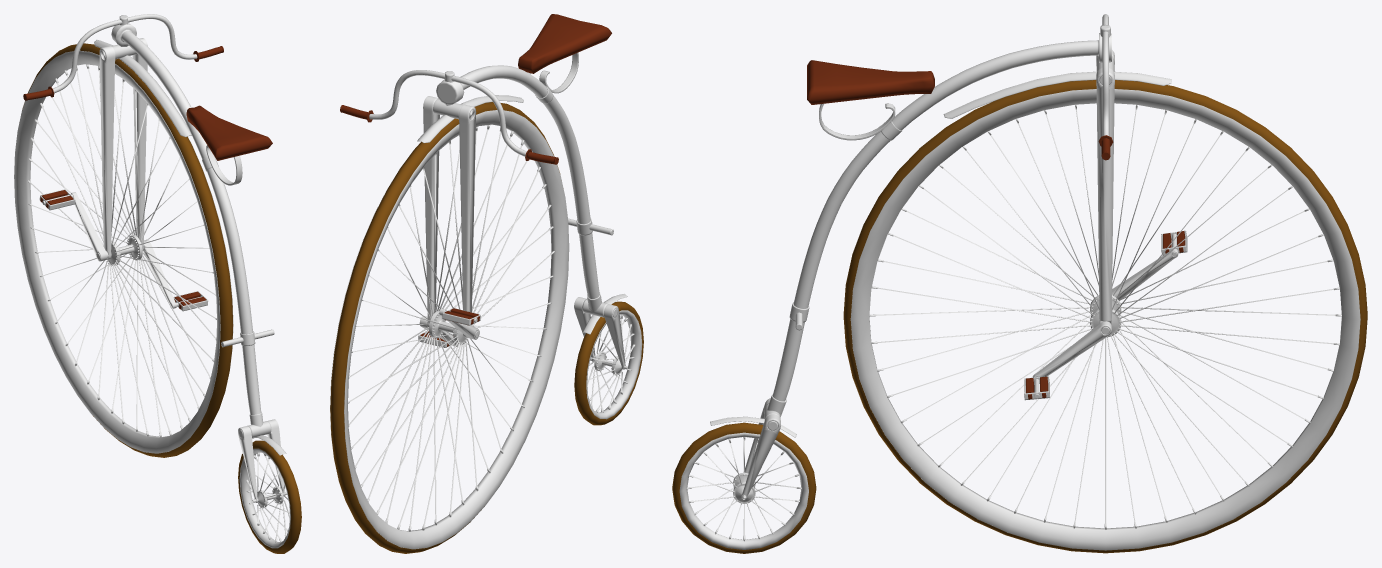
File: bike.glb
3 renders of one model, left to right at view 1: azimuth 30°, elevation 25°; view 2: azimuth 150°, elevation 25°; view 3: azimuth 270°, elevation 25°, orthographic. The views are drawn at different scales.
Visible parts, largest first — view 1: Rim-Big, Tire-Big, Wires-Right, Wires-Left, Body, FootShaft-R.008, Chair, Tire-Small, Wing-Big, Rime-Small, Steering, FootShaft-R.009 (+9 smaller); view 2: Rim-Big, Tire-Big, Wires-Right, Wires-Left, FootShaft-R.008, Body, Chair, Tire-Small, Rime-Small, Steering, FootShaft-R.009, Wing-Big (+8 smaller); view 3: Rim-Big, Tire-Big, Wires-Left, Body, Wires-Right, Chair, FootShaft-R.008, Tire-Small, Rime-Small, Wing-Big, FootShaft-R.009, FootShaft-R.005 (+2 smaller).
Boxes of the visible parts, left/top/right/bottom form: Rim-Big: left=14, top=50, right=233, bottom=453; Tire-Big: left=22, top=43, right=233, bottom=457; Wires-Right: left=27, top=66, right=216, bottom=436; Wires-Left: left=28, top=64, right=216, bottom=437; Body: left=111, top=23, right=261, bottom=414; FootShaft-R.008: left=99, top=38, right=147, bottom=259; Chair: left=186, top=105, right=272, bottom=160; Tire-Small: left=238, top=440, right=301, bottom=553; Wing-Big: left=94, top=40, right=191, bottom=137; Rime-Small: left=239, top=448, right=290, bottom=548; Steering: left=53, top=14, right=197, bottom=93; FootShaft-R.009: left=238, top=419, right=285, bottom=502; Rim-Big: left=330, top=110, right=569, bottom=549; Tire-Big: left=330, top=102, right=560, bottom=553; Wires-Right: left=348, top=127, right=554, bottom=530; Wires-Left: left=348, top=125, right=553, bottom=531; FootShaft-R.008: left=423, top=96, right=476, bottom=337; Body: left=436, top=65, right=599, bottom=298; Chair: left=518, top=14, right=611, bottom=73; Tire-Small: left=574, top=301, right=643, bottom=425; Rime-Small: left=586, top=310, right=642, bottom=419; Steering: left=369, top=70, right=526, bottom=156; FootShaft-R.009: left=574, top=297, right=625, bottom=369; Wing-Big: left=417, top=95, right=523, bottom=143; Rim-Big: left=850, top=89, right=1360, bottom=550; Tire-Big: left=843, top=80, right=1367, bottom=553; Wires-Left: left=871, top=104, right=1339, bottom=528; Body: left=772, top=33, right=1111, bottom=401; Wires-Right: left=869, top=110, right=1341, bottom=529; Chair: left=807, top=60, right=934, bottom=104; FootShaft-R.008: left=1096, top=50, right=1114, bottom=325; Tire-Small: left=672, top=422, right=816, bottom=553; Rime-Small: left=679, top=432, right=808, bottom=549; Wing-Big: left=943, top=71, right=1171, bottom=118; FootShaft-R.009: left=741, top=398, right=780, bottom=498; FootShaft-R.005: left=1033, top=321, right=1111, bottom=377.
Size of the model in its own units: 0.7801 by 1.61 by 1.93.
